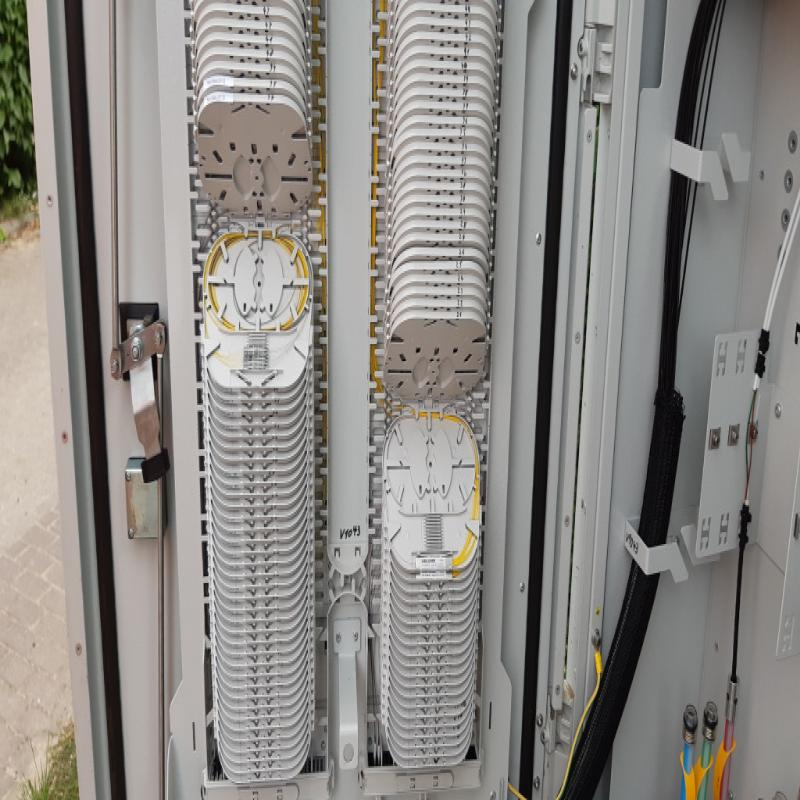NT-Gehause: (28, 0, 800, 800)
Spleiskassetten: (180, 0, 326, 798), (368, 0, 503, 780)
